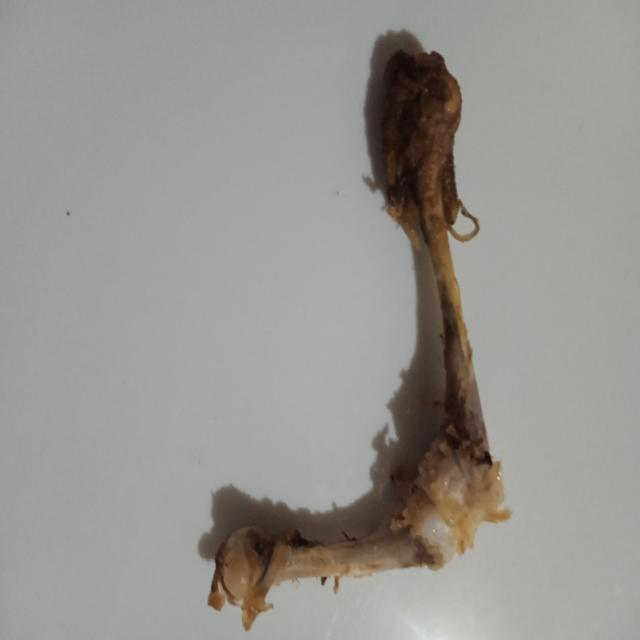bone: (192, 14, 526, 640)
